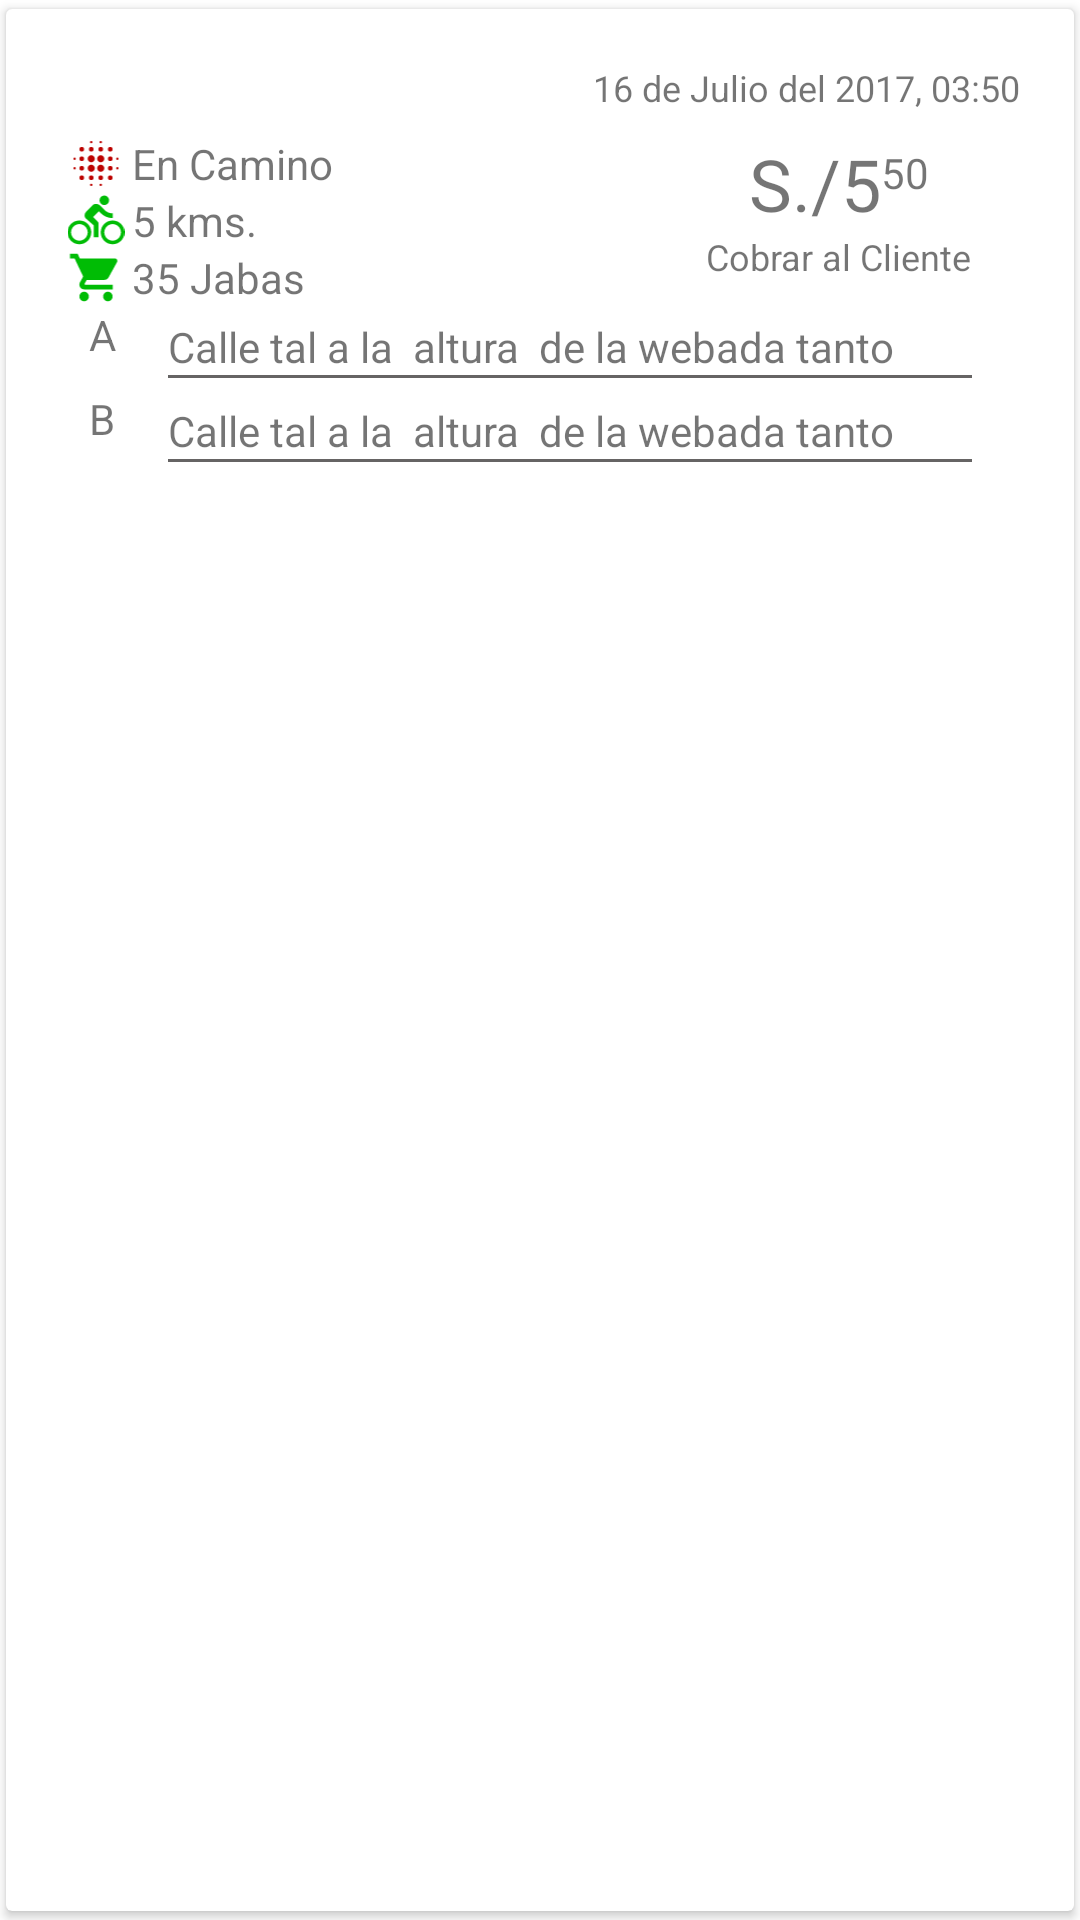

Named icons in this screenshot (1080 × 1920) and their bounding boxes, {"x1": x1, "y1": y1, "x2": x2, "y2": y2}:
blur on: {"x1": 73, "y1": 141, "x2": 119, "y2": 186}
directions bike: {"x1": 68, "y1": 195, "x2": 125, "y2": 245}
shopping cart: {"x1": 69, "y1": 253, "x2": 118, "y2": 302}
